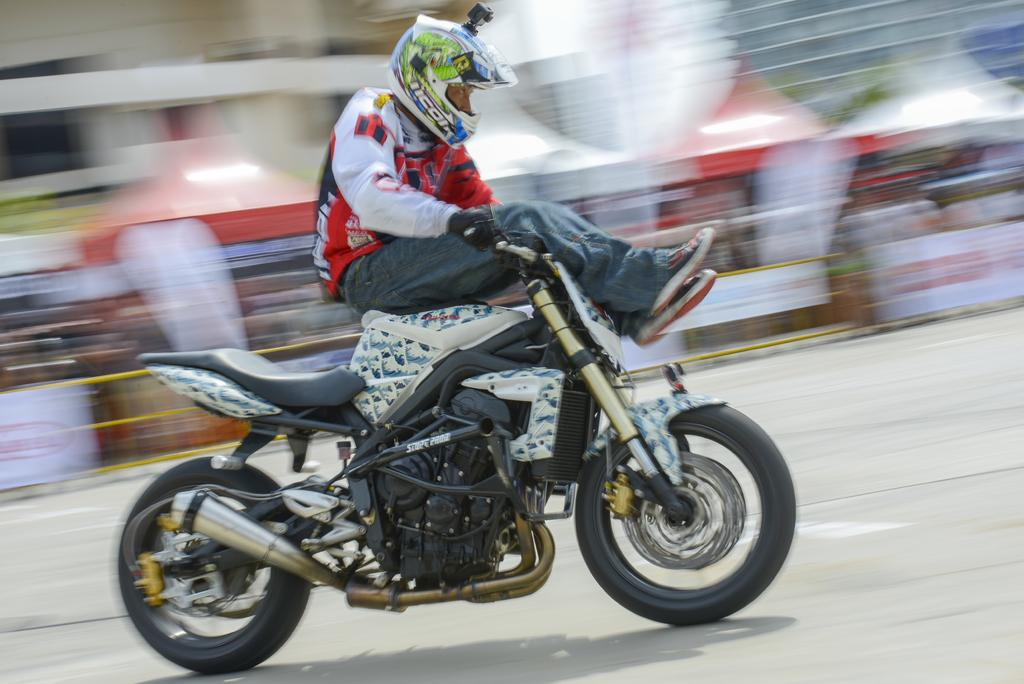helmet: (386, 14, 519, 149)
